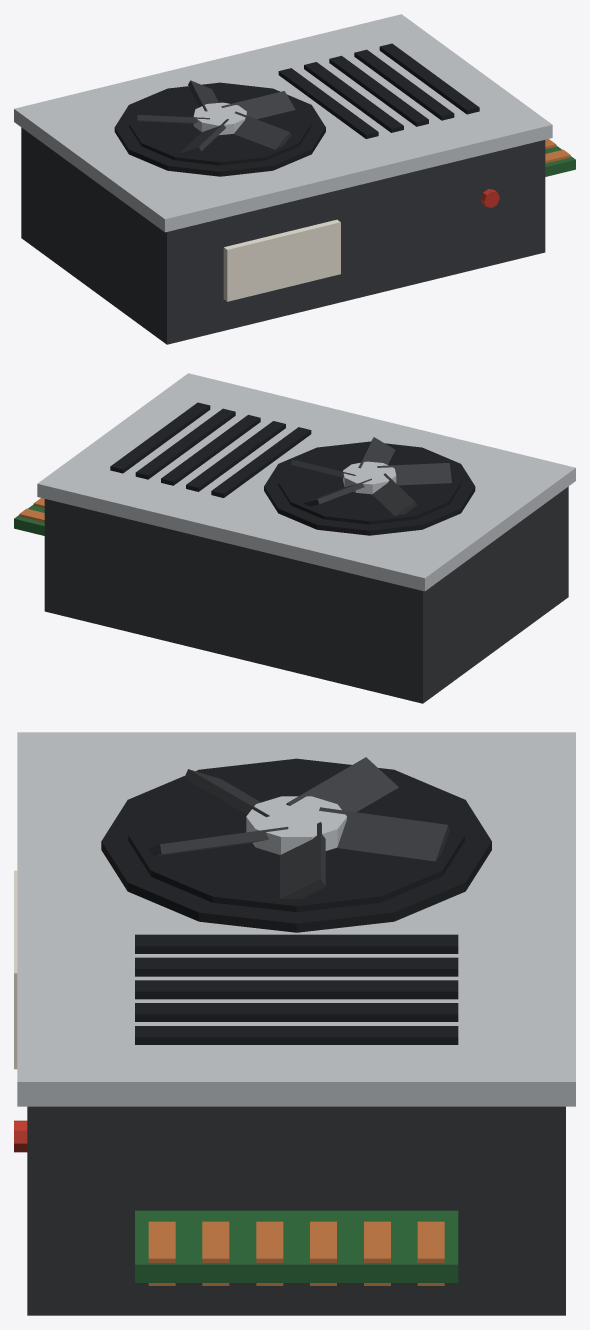
Rendered from compute_basic.glb.
3 renders of one model, top to bottom at view 1: azimuth 30°, elevation 25°; view 2: azimuth 150°, elevation 25°; view 3: azimuth 270°, elevation 25°, orthographic. The views are drawn at different scales.
Visible parts, largest first — view 1: compute_basic; view 2: compute_basic; view 3: compute_basic.
Boxes of the visible parts, bbox=[...] form: compute_basic: bbox=[14, 14, 575, 344]; compute_basic: bbox=[14, 373, 575, 703]; compute_basic: bbox=[14, 732, 575, 1315].
Size of the model in its own units: 0.281 by 0.0896 by 0.167.
